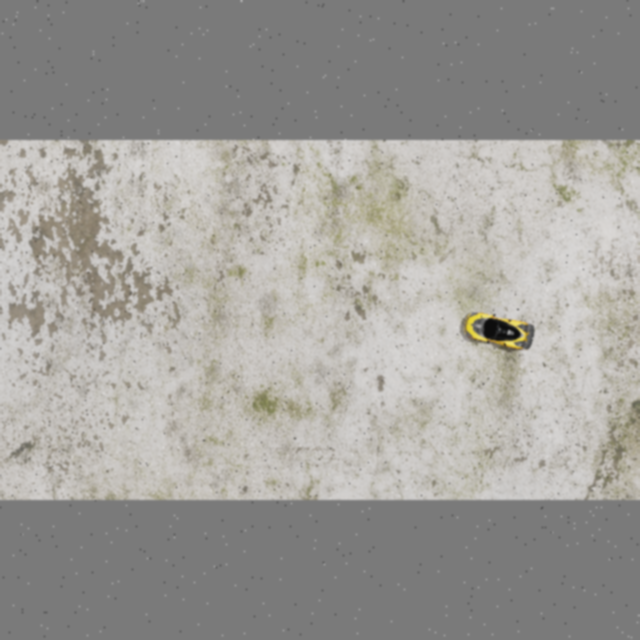car: (460, 309, 537, 353)
